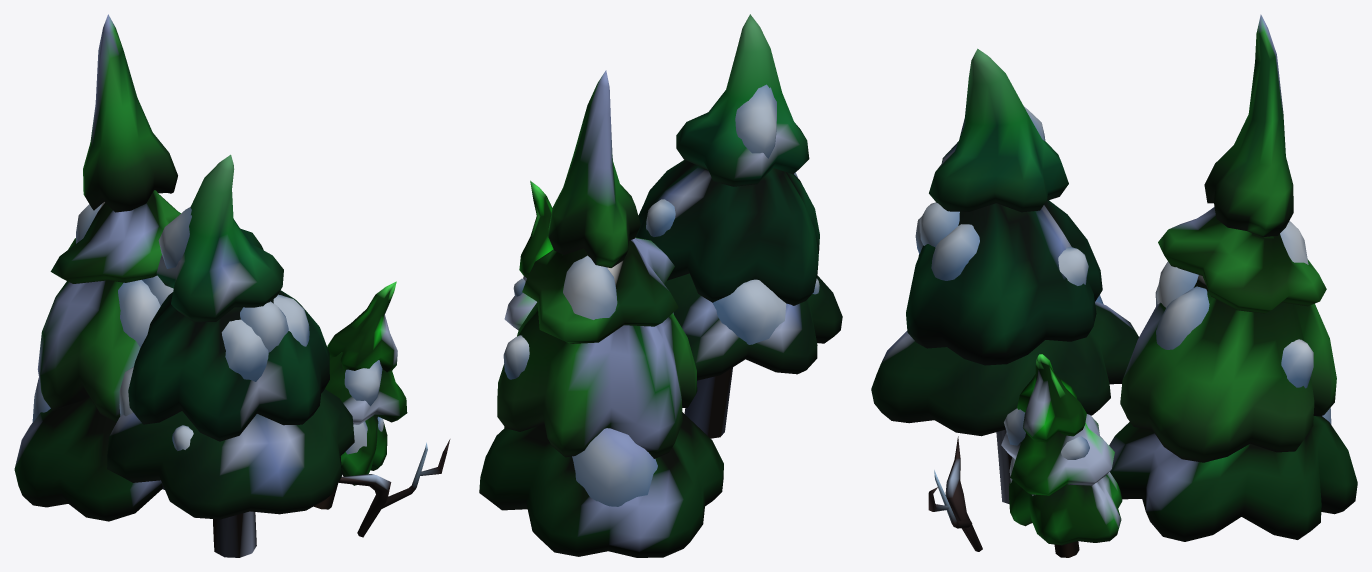
Rendered from Tree_10.fbx.
3 renders of one model, left to right at view 1: azimuth 30°, elevation 25°; view 2: azimuth 150°, elevation 25°; view 3: azimuth 270°, elevation 25°, orthographic. The views are drawn at different scales.
Parts seen in each view (by area): view 1: Tree_10; view 2: Tree_10; view 3: Tree_10.
Boxes of the visible parts, x1=… form: Tree_10: x1=14, y1=14, x2=450, y2=557; Tree_10: x1=479, y1=14, x2=842, y2=557; Tree_10: x1=871, y1=14, x2=1357, y2=557.
Bounding box in the file's own units: 3762 × 5744 × 5096.
